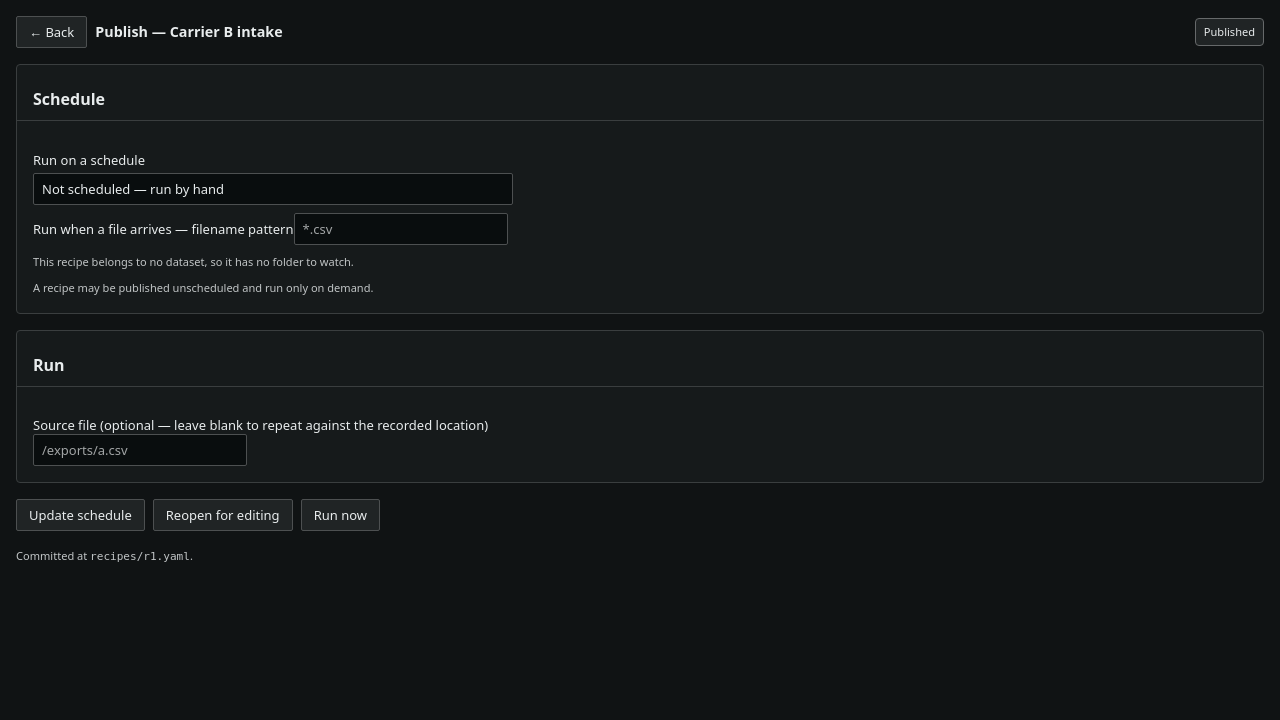
Publish: a run into a case that already holds its rows › says it in the singular for one row
This screenshot has width=1280, height=720.
Click the button "Run now": (340, 515) [301,499,380,531]
(page scrolled)
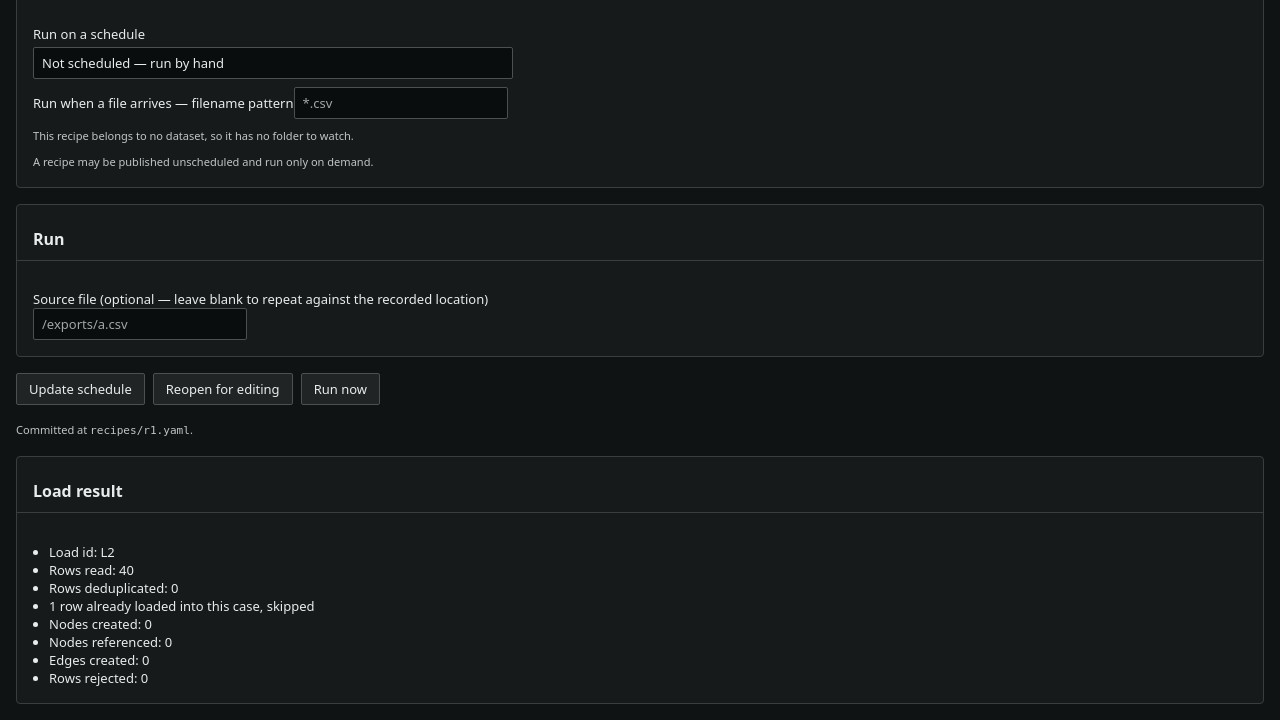
Expected: the list item "1 row already loaded into this case, skipped" is shown, [49,597,314,615]
